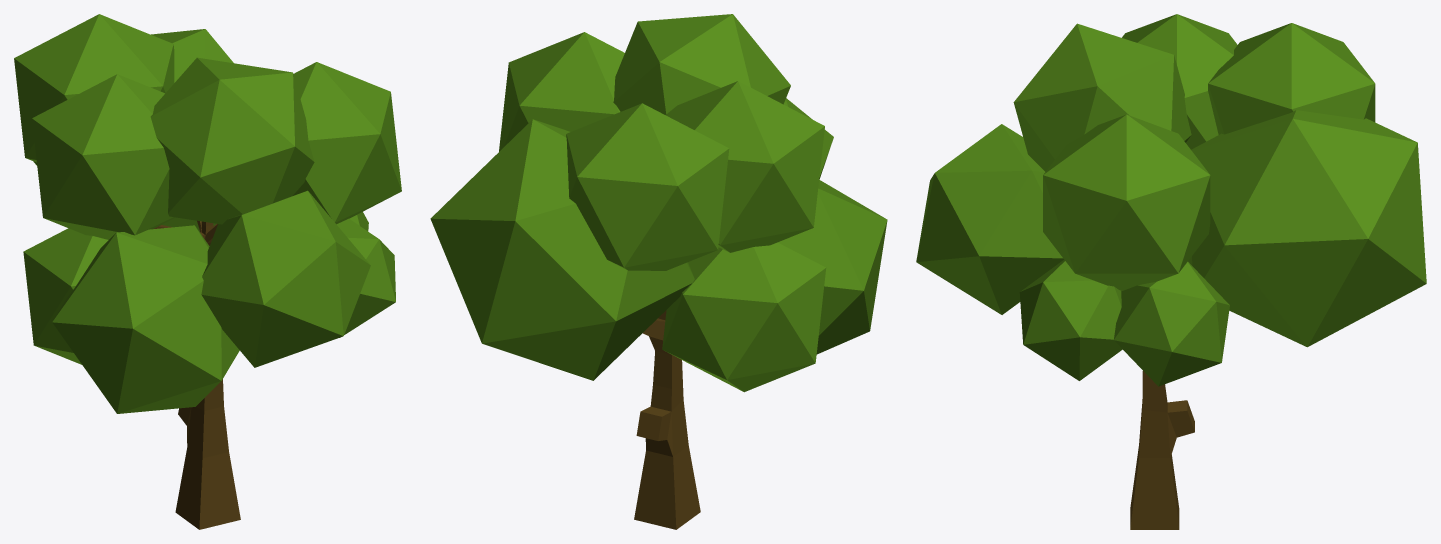
File: Tree04.fbx
The picture shows the model from 3 angles, left to right: view 1: azimuth 30°, elevation 25°; view 2: azimuth 150°, elevation 25°; view 3: azimuth 270°, elevation 25°; orthographic projection. The views are drawn at different scales.
Visible parts, largest first — view 1: Tree04; view 2: Tree04; view 3: Tree04.
Part boxes in pixels (x1,y1,x2,y2): Tree04: (14,14,401,529); Tree04: (430,14,887,529); Tree04: (916,14,1426,529).
Size of the model in its own units: 4.14 by 5.41 by 5.19.
